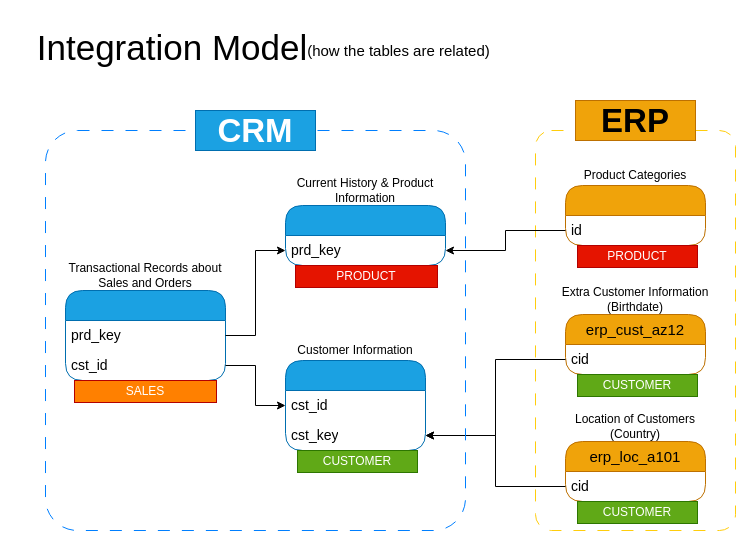
The diagram is 753 pixels wide and 548 high, and some of its shapes have lost their labels. The shapes that lost their labels are listed below. From the top down, each one's box as (x1, y1, x2, y2) in pixels, then its label:
(284, 204, 446, 266): crm_prd_info
(564, 184, 706, 246): erp_px_cat_g1v2
(64, 290, 226, 380): crm_sales_details
(284, 360, 426, 450): crm_cust_info
